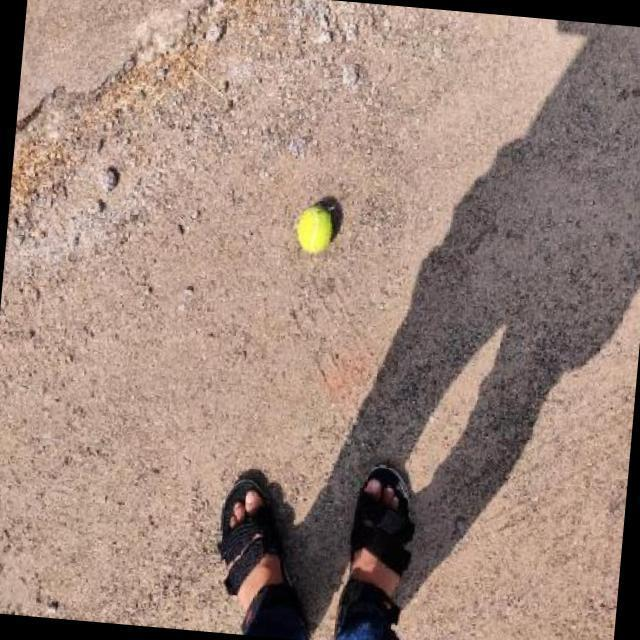-: (292, 202, 337, 265)
